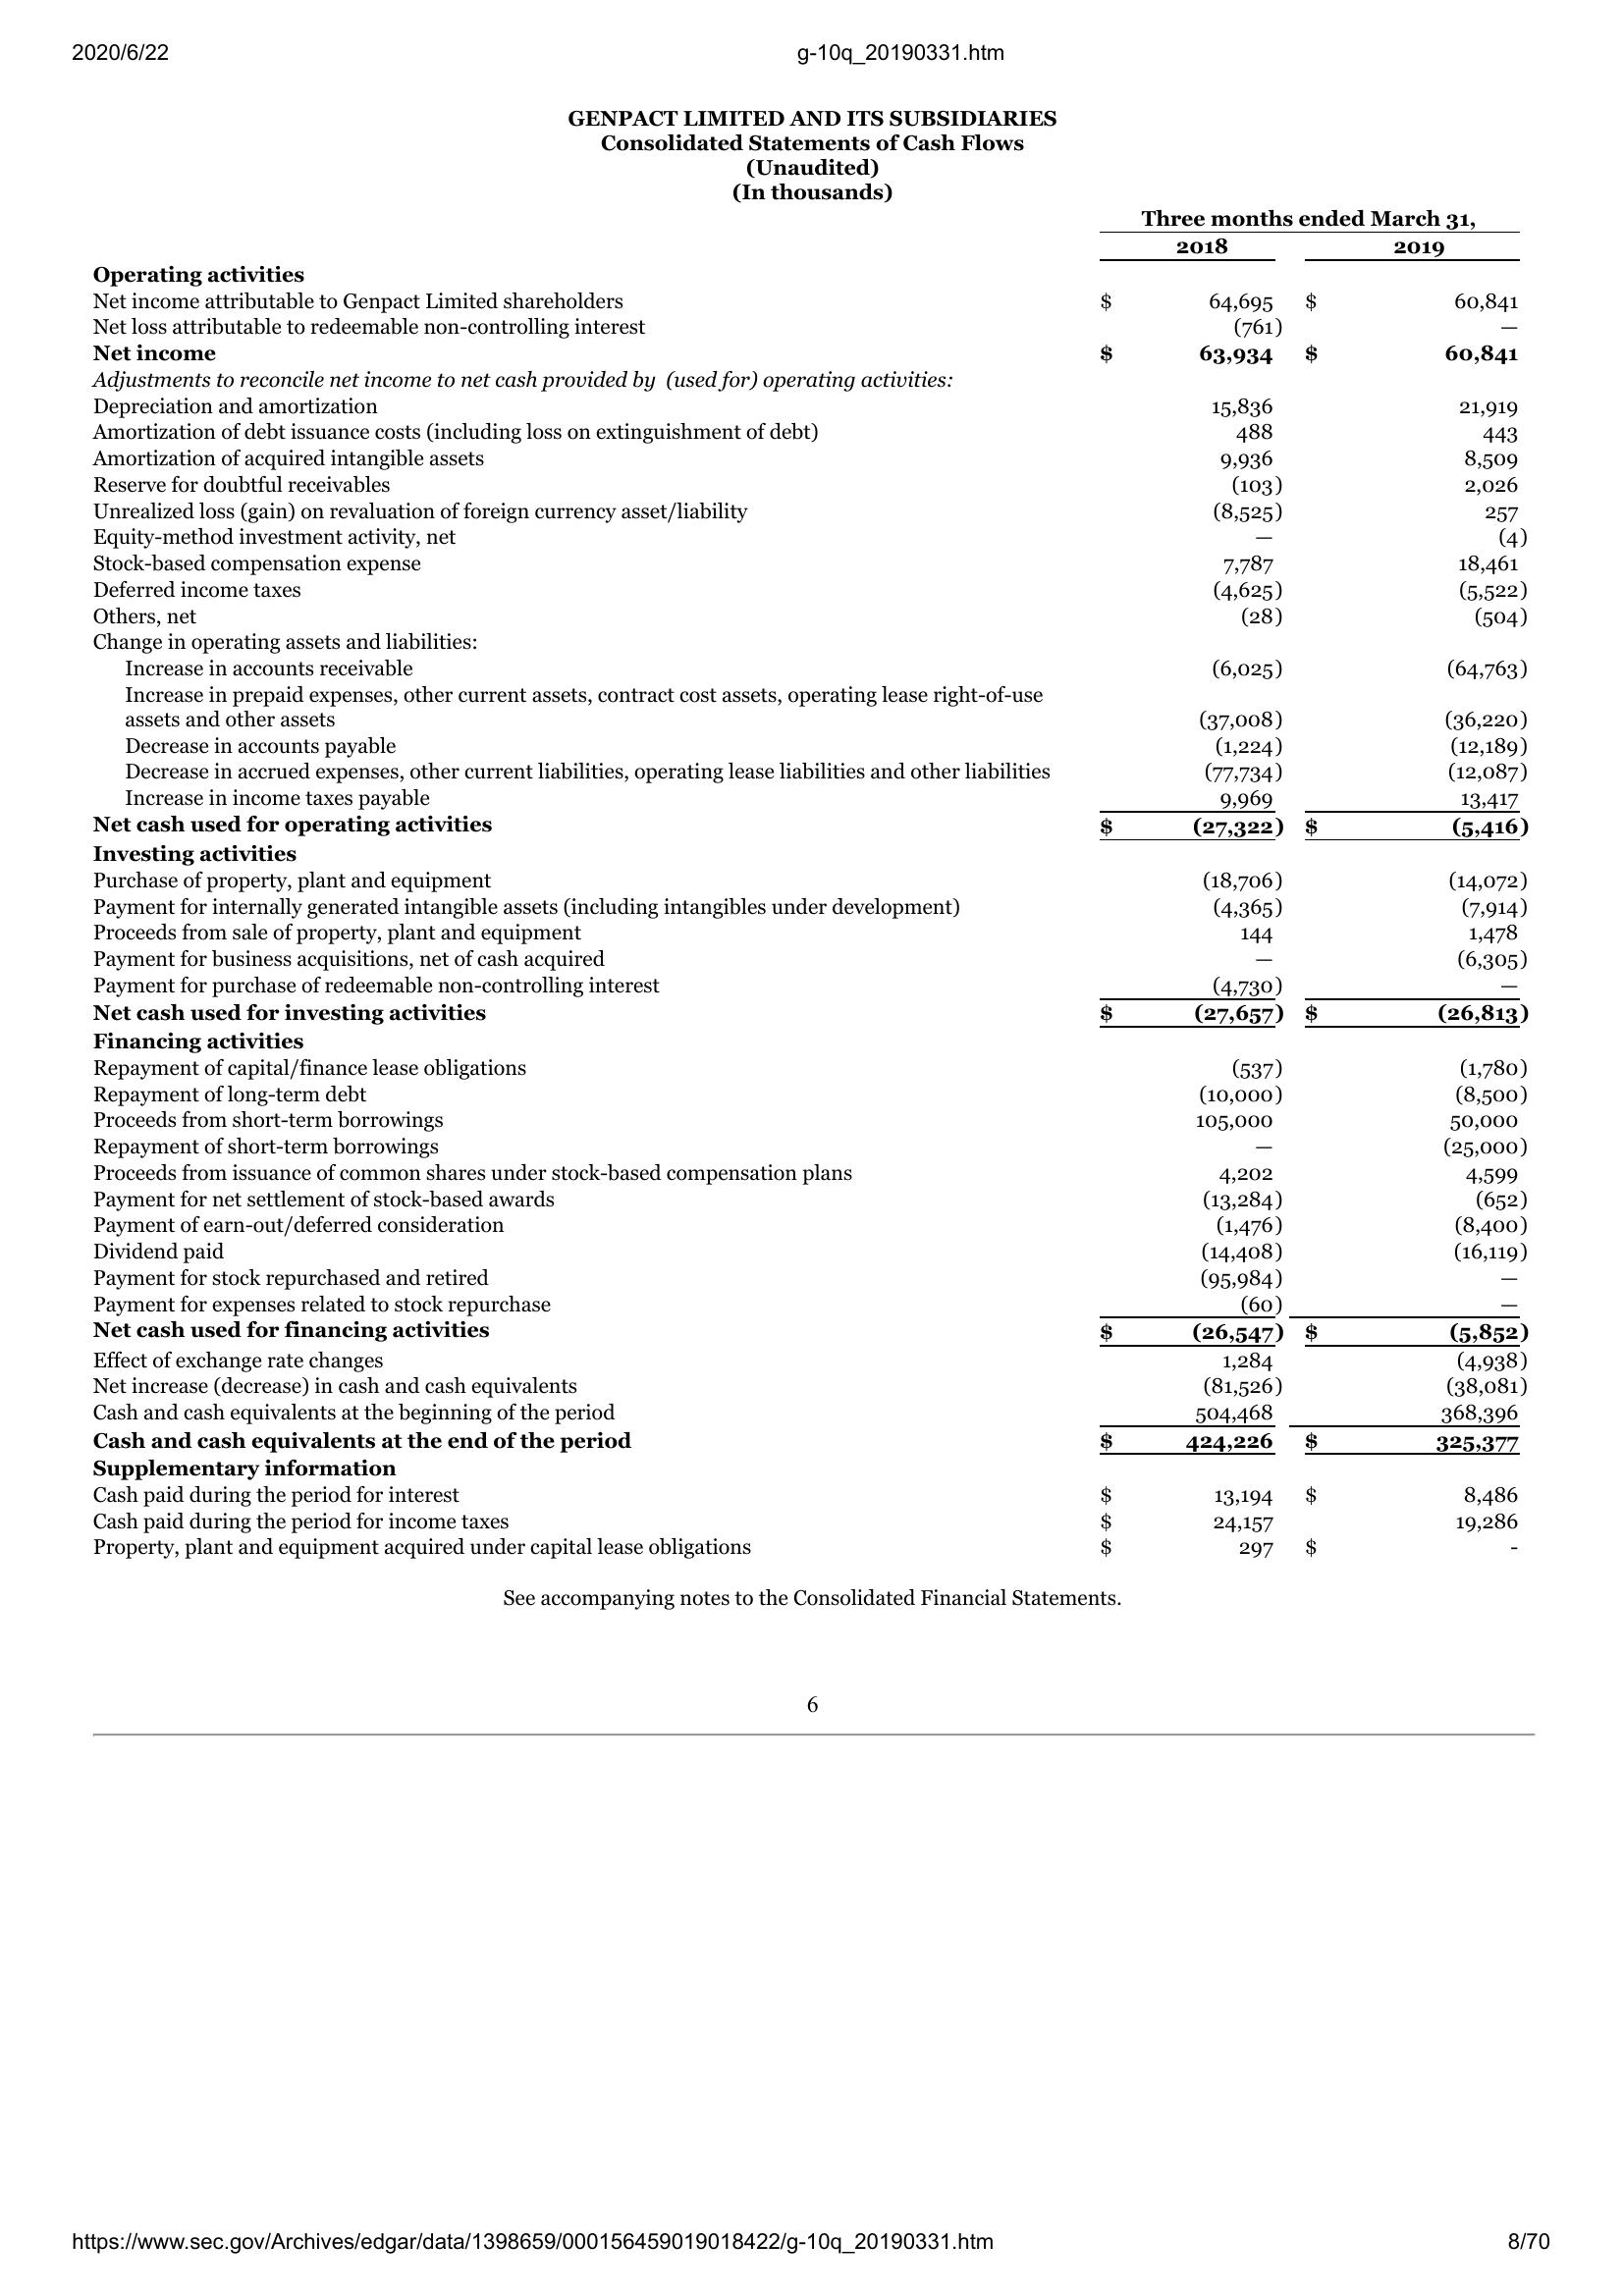table: (74, 202, 1540, 1571)
